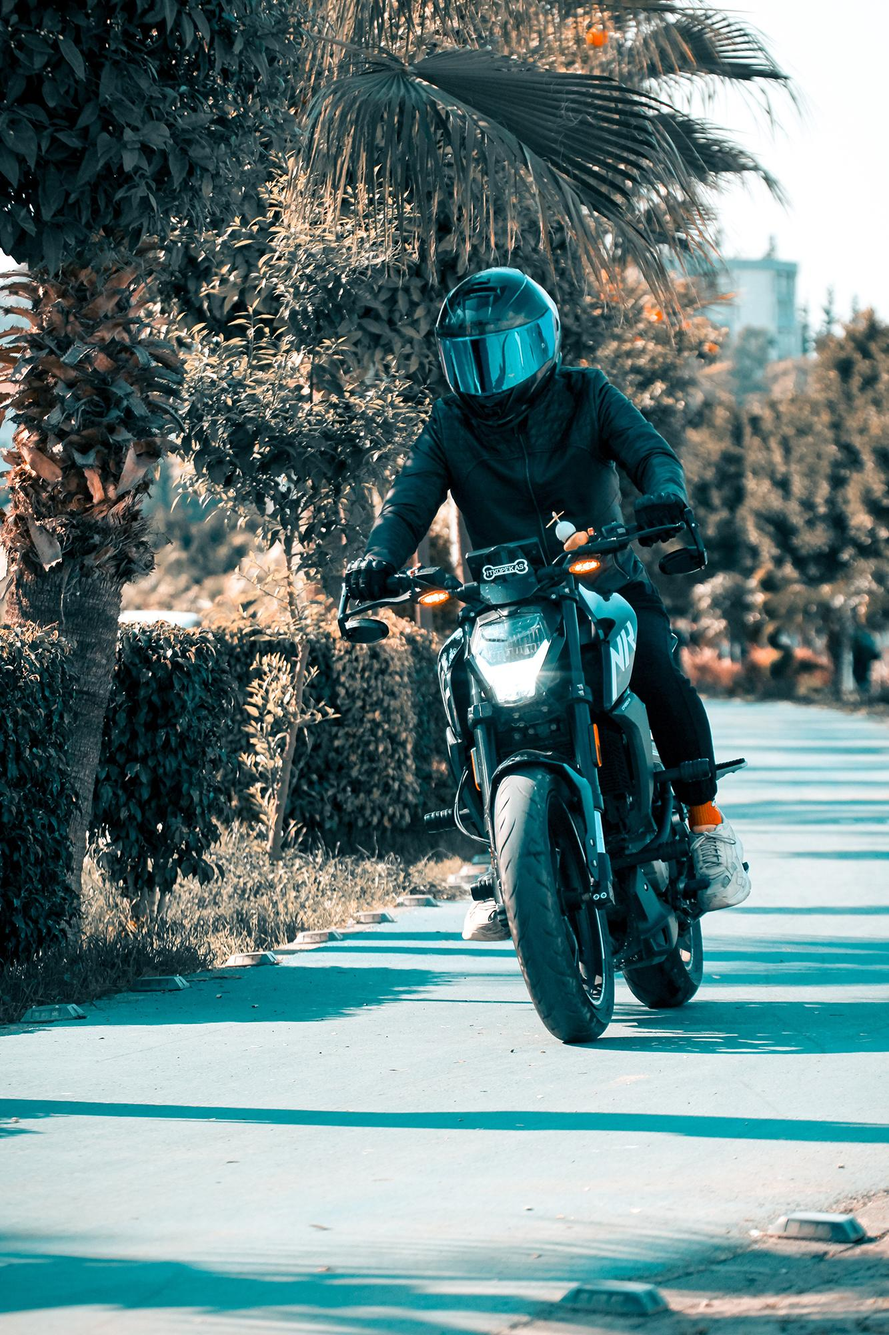helmet: (434, 265, 563, 434)
